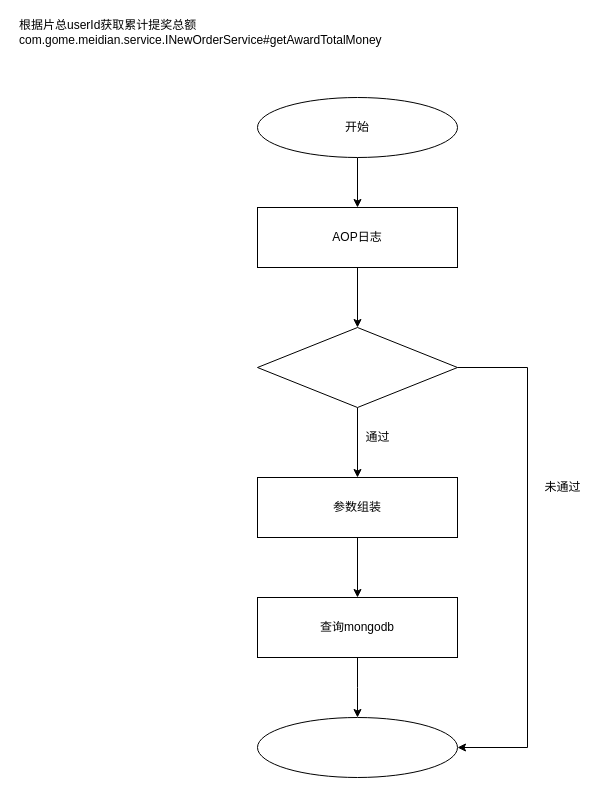
The diagram is 604 pixels wide and 795 high, and some of its shapes have lost their labels. Here are the shapes that lost their labels. From the top down, the box of each, then its label:
(256, 326, 458, 408): 参数校验
(256, 716, 458, 778): 结束
